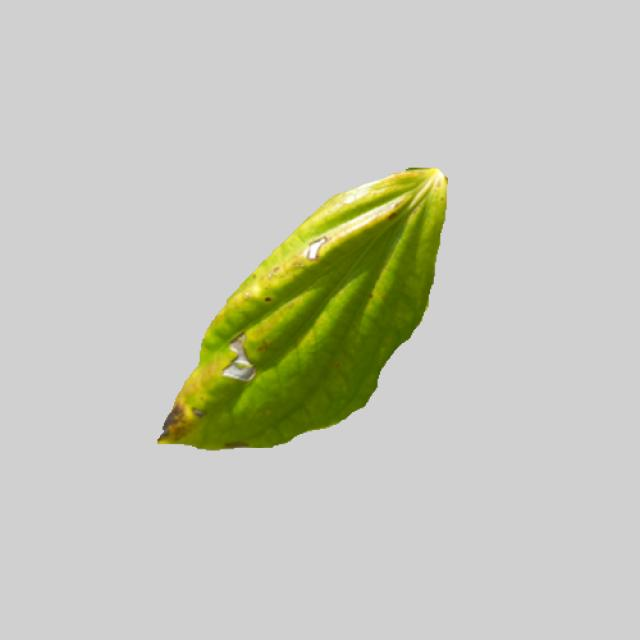yellow-mottle-virus: (142, 160, 449, 449)
